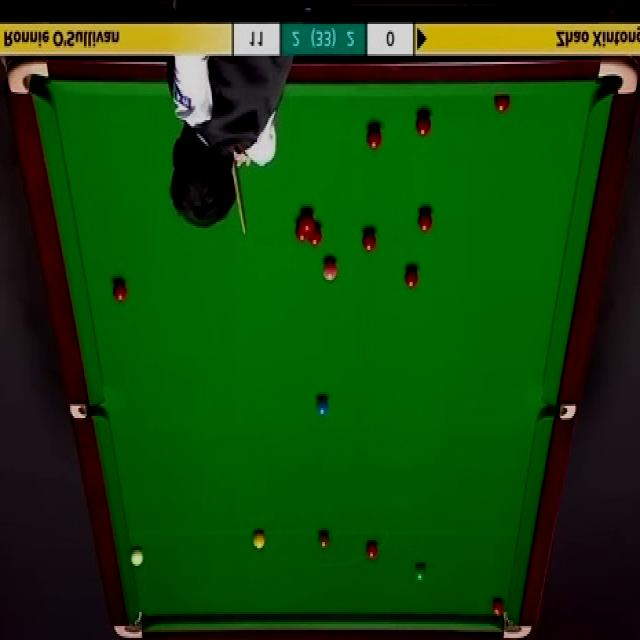blue-ball: (315, 396, 330, 416)
brown-ball: (318, 532, 330, 552)
green-ball: (412, 562, 426, 584)
pink-ball: (322, 256, 339, 281)
red-ball: (414, 112, 432, 138), (404, 265, 420, 291), (366, 125, 380, 154), (112, 275, 127, 302), (417, 205, 431, 232), (362, 230, 377, 254), (294, 218, 308, 242), (494, 95, 510, 115), (364, 541, 379, 562), (309, 222, 322, 246), (300, 210, 316, 229), (492, 600, 503, 617)
white-ball: (131, 548, 144, 565)
yellow-ball: (252, 531, 266, 549)
